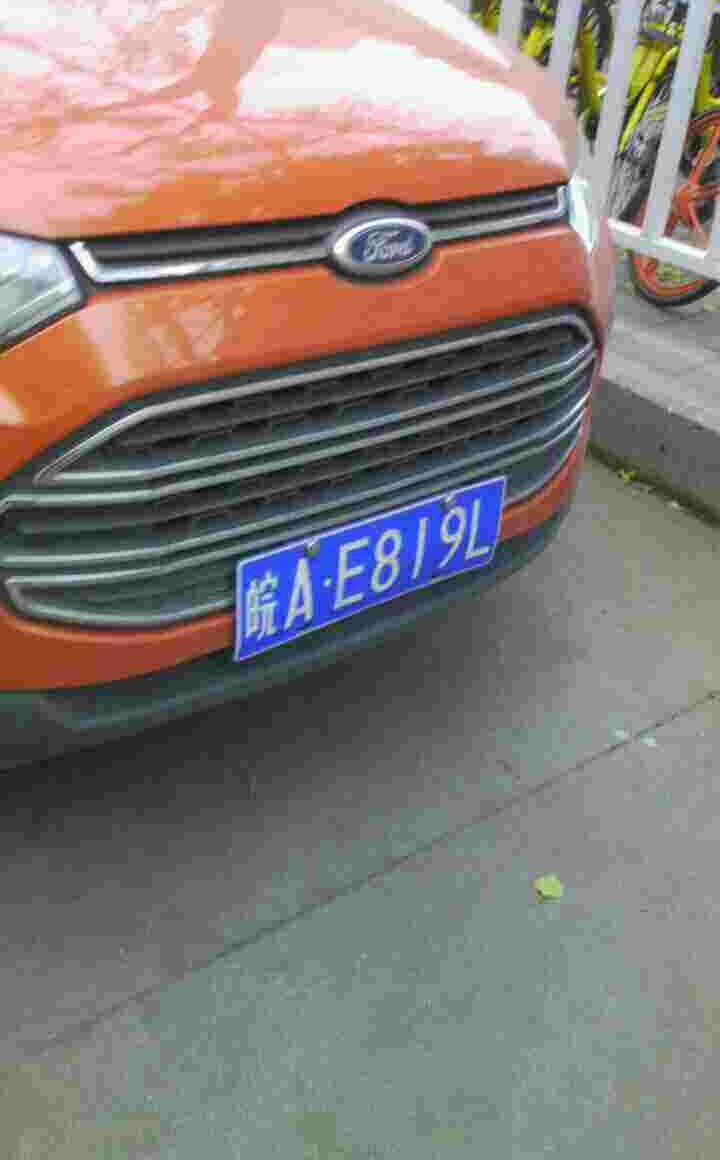car: (243, 525, 506, 615)
